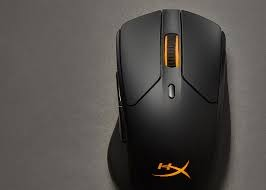mouse: (103, 5, 258, 190)
